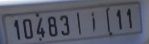0: (23, 17, 33, 41)
1: (12, 18, 22, 41), (114, 8, 124, 31), (125, 8, 134, 30)
3: (59, 14, 70, 36)
4: (35, 17, 45, 38)
8: (47, 15, 58, 38)
a: (88, 11, 98, 33)
